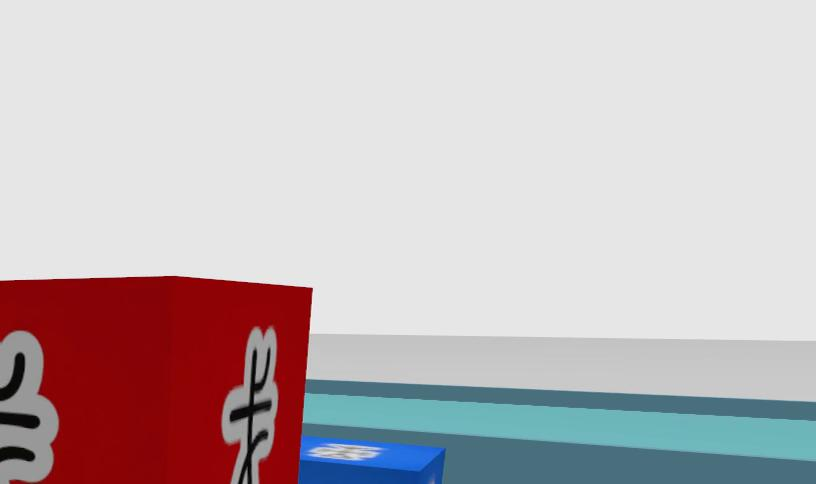KFS_FAKE: (0, 276, 311, 484), (0, 331, 57, 484), (221, 329, 277, 484)
KFS_REAL: (297, 436, 444, 484), (309, 443, 382, 459)
